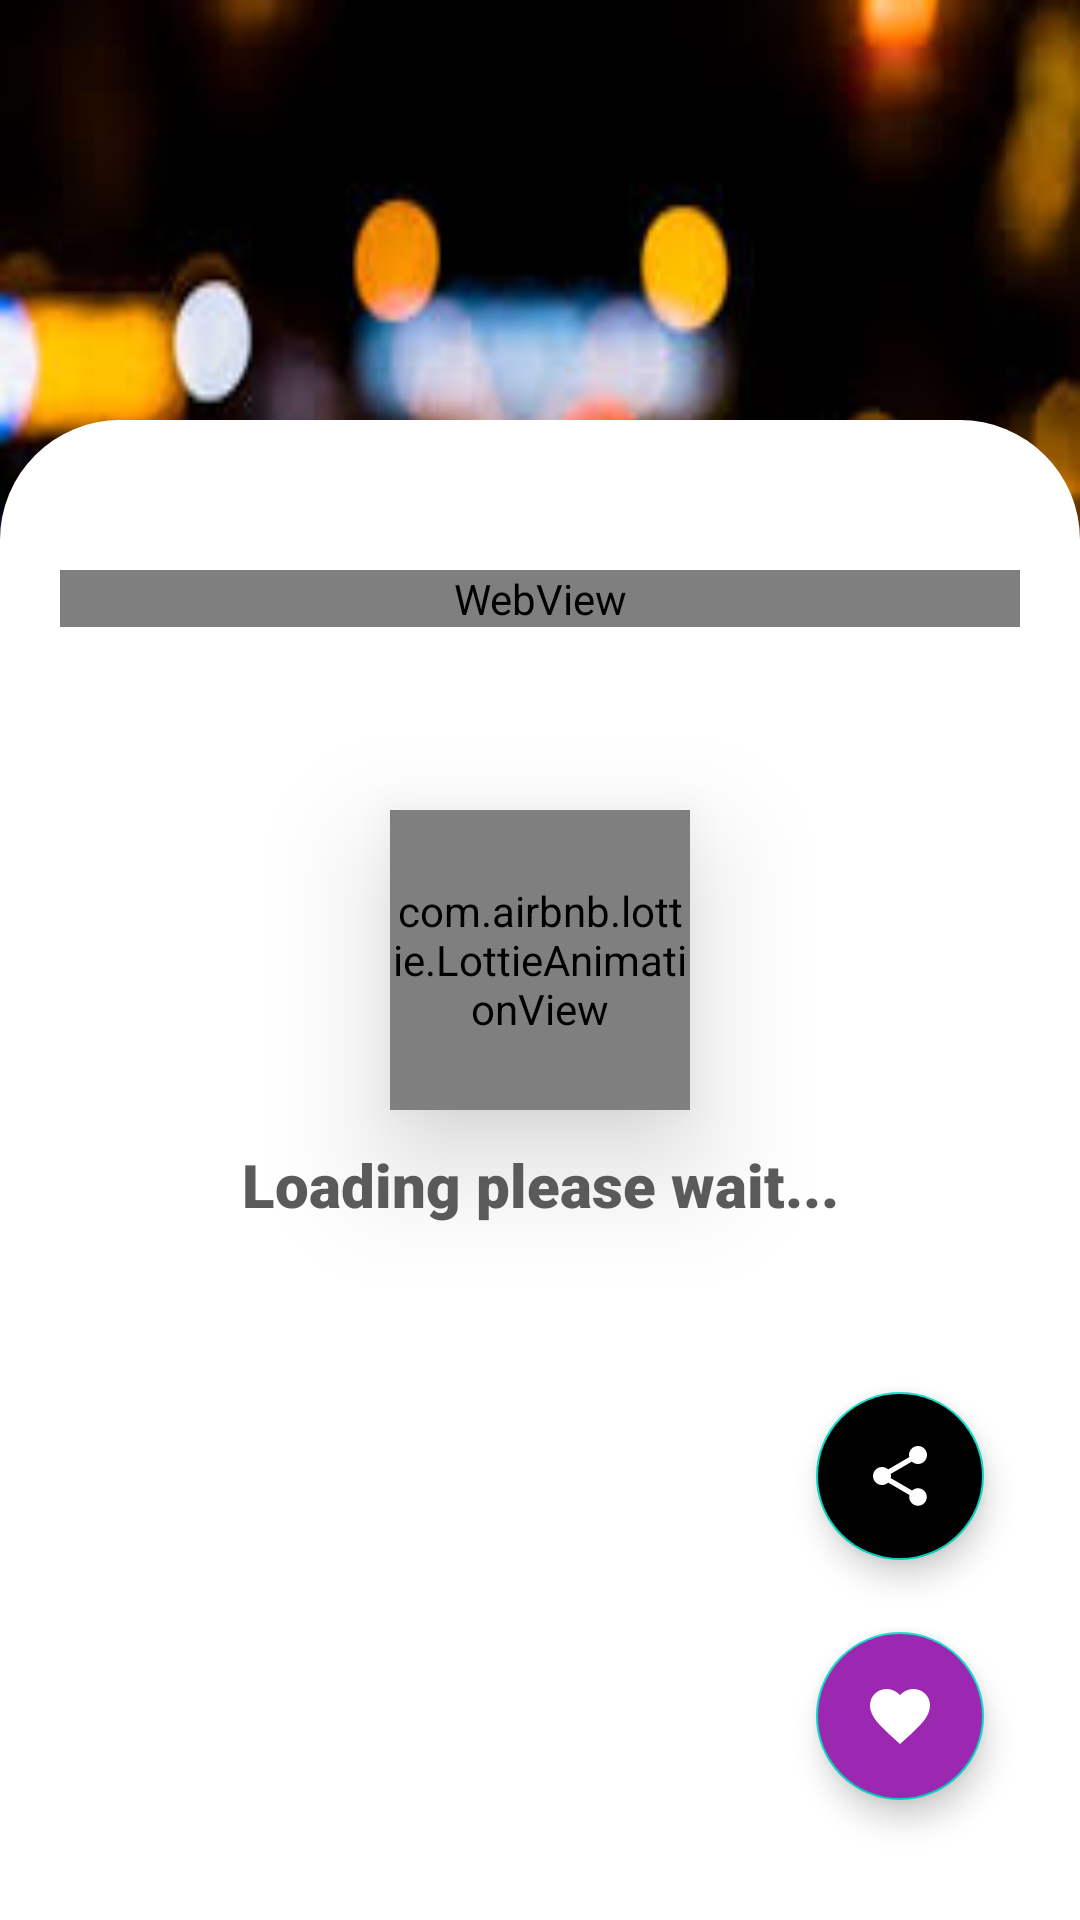

Icons on this 1080w x 1920h Android screen, each with its box as (x1, y1, x2, y2):
favorite: (816, 1632, 984, 1800)
share: (816, 1392, 984, 1560)
